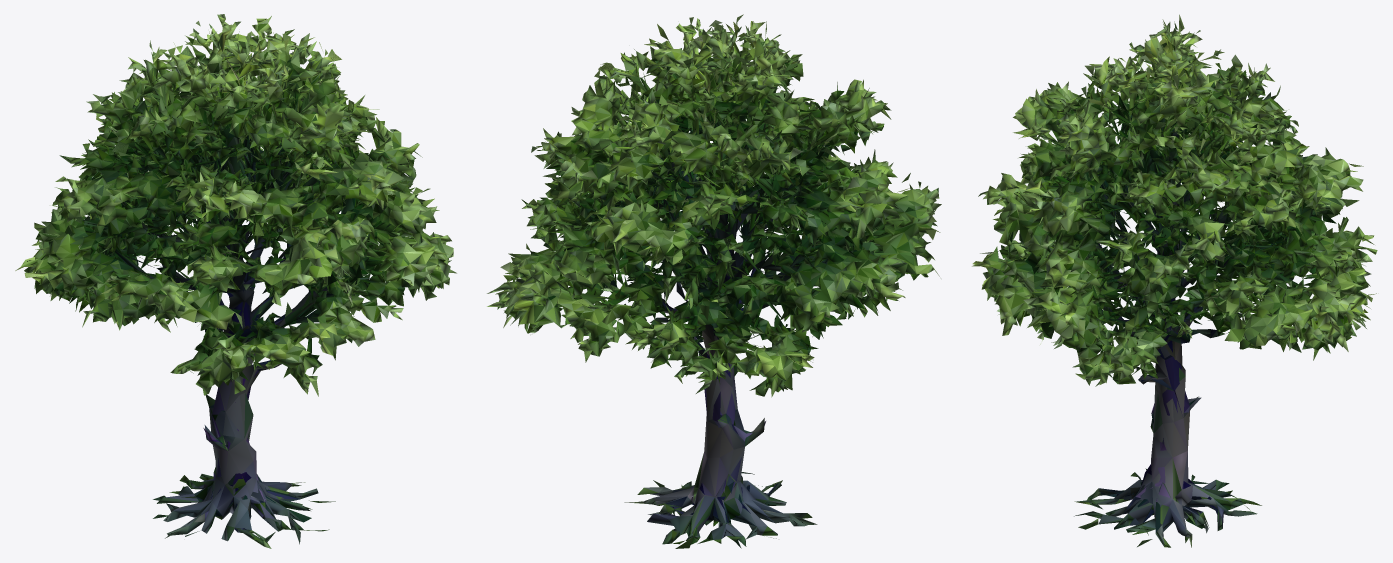
Rendered from guardian.glb.
3 renders of one model, left to right at view 1: azimuth 30°, elevation 25°; view 2: azimuth 150°, elevation 25°; view 3: azimuth 270°, elevation 25°, orthographic. The views are drawn at different scales.
Parts seen in each view (by area): view 1: mesh_node; view 2: mesh_node; view 3: mesh_node.
Boxes of the visible parts, <box> form: mesh_node: <box>15,14,456,548</box>; mesh_node: <box>487,14,941,548</box>; mesh_node: <box>972,14,1377,547</box>.
Size of the model in its own units: 1.53 by 1.88 by 1.45.
Materials: 1 (1 with a texture image).
